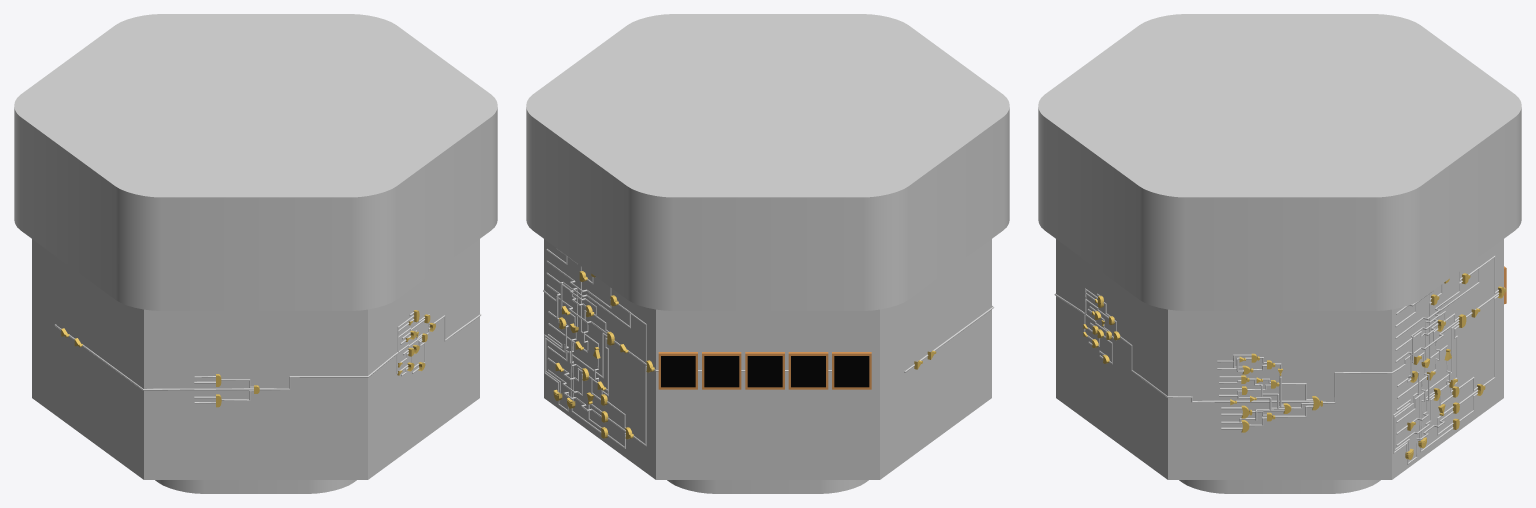
The model's file is Układy cyfrowe walec.fbx.
3 renders of one model, left to right at view 1: azimuth 30°, elevation 25°; view 2: azimuth 150°, elevation 25°; view 3: azimuth 270°, elevation 25°, orthographic.
Visible parts, largest first — view 1: Cylinder; view 2: Cylinder, Cube.006; view 3: Cylinder.
Boxes of the visible parts, <box> form: Cylinder: <box>14,14,497,493</box>; Cylinder: <box>526,14,1009,493</box>; Cube.006: <box>658,352,871,389</box>; Cylinder: <box>1038,14,1521,493</box>.
Bounding box in the file's own units: 3562 × 2970 × 3968.
